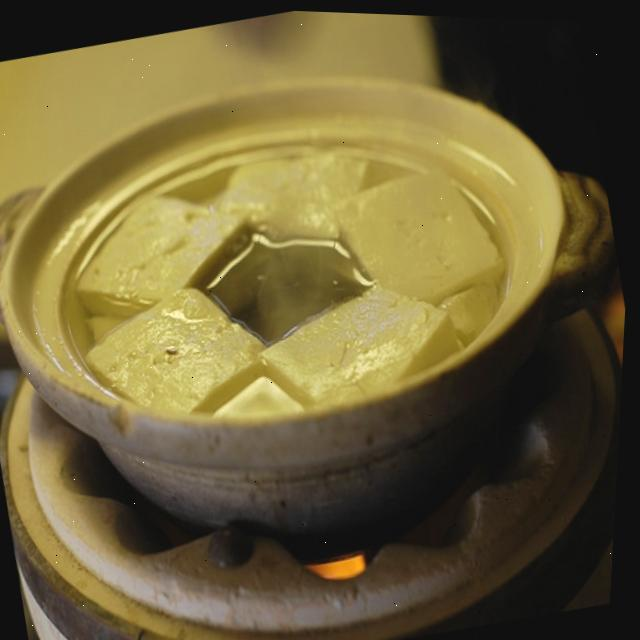豆腐料理: (0, 1, 635, 586)
